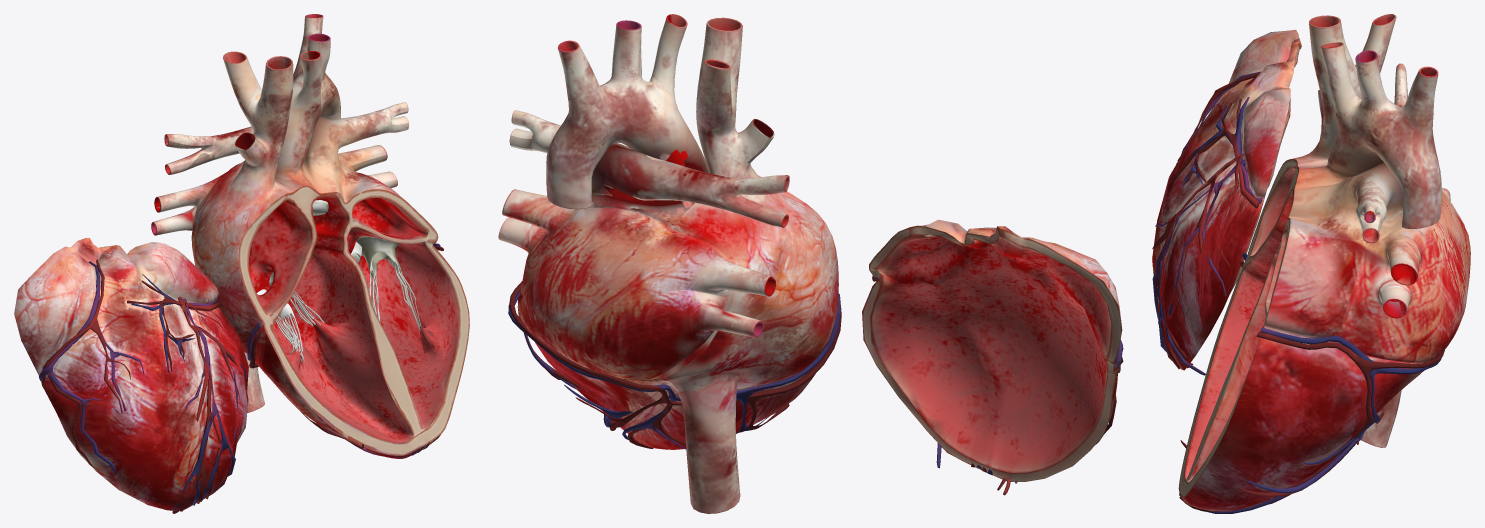
File: Heart_with_anatomical_cross_section.glb
3 renders of one model, left to right at view 1: azimuth 30°, elevation 25°; view 2: azimuth 150°, elevation 25°; view 3: azimuth 270°, elevation 25°, orthographic. The views are drawn at different scales.
Visible parts, largest first — view 1: RearHalf_Heart_With_Anatomical_CrossSection, Heart_With_Anatomical_CrossSection_Cap, Heart_With_Anatomical_CrossSection_Cap_BloodVessel, Mitral_Valve, Tricuspid_Valve, Heart_With_Anatomical_CrossSection_BloodVessel; view 2: RearHalf_Heart_With_Anatomical_CrossSection, Heart_With_Anatomical_CrossSection_Cap, Heart_With_Anatomical_CrossSection_BloodVessel; view 3: RearHalf_Heart_With_Anatomical_CrossSection, Heart_With_Anatomical_CrossSection_Cap, Heart_With_Anatomical_CrossSection_Cap_BloodVessel, Heart_With_Anatomical_CrossSection_BloodVessel.
Part boxes in pixels (left/top/right/bottom): RearHalf_Heart_With_Anatomical_CrossSection: left=151, top=14, right=469, bottom=458; Heart_With_Anatomical_CrossSection_Cap: left=14, top=238, right=248, bottom=511; Heart_With_Anatomical_CrossSection_Cap_BloodVessel: left=39, top=259, right=246, bottom=513; Mitral_Valve: left=357, top=236, right=421, bottom=331; Tricuspid_Valve: left=257, top=271, right=324, bottom=362; Heart_With_Anatomical_CrossSection_BloodVessel: left=247, top=243, right=443, bottom=456; RearHalf_Heart_With_Anatomical_CrossSection: left=498, top=14, right=838, bottom=513; Heart_With_Anatomical_CrossSection_Cap: left=862, top=219, right=1122, bottom=481; Heart_With_Anatomical_CrossSection_BloodVessel: left=508, top=281, right=841, bottom=449; RearHalf_Heart_With_Anatomical_CrossSection: left=1178, top=14, right=1470, bottom=511; Heart_With_Anatomical_CrossSection_Cap: left=1152, top=29, right=1301, bottom=370; Heart_With_Anatomical_CrossSection_Cap_BloodVessel: left=1152, top=71, right=1262, bottom=375; Heart_With_Anatomical_CrossSection_BloodVessel: left=1179, top=253, right=1444, bottom=513.
Bounding box in the file's own units: 14.9 × 12.27 × 7.92.
1 material, 1 textured.
